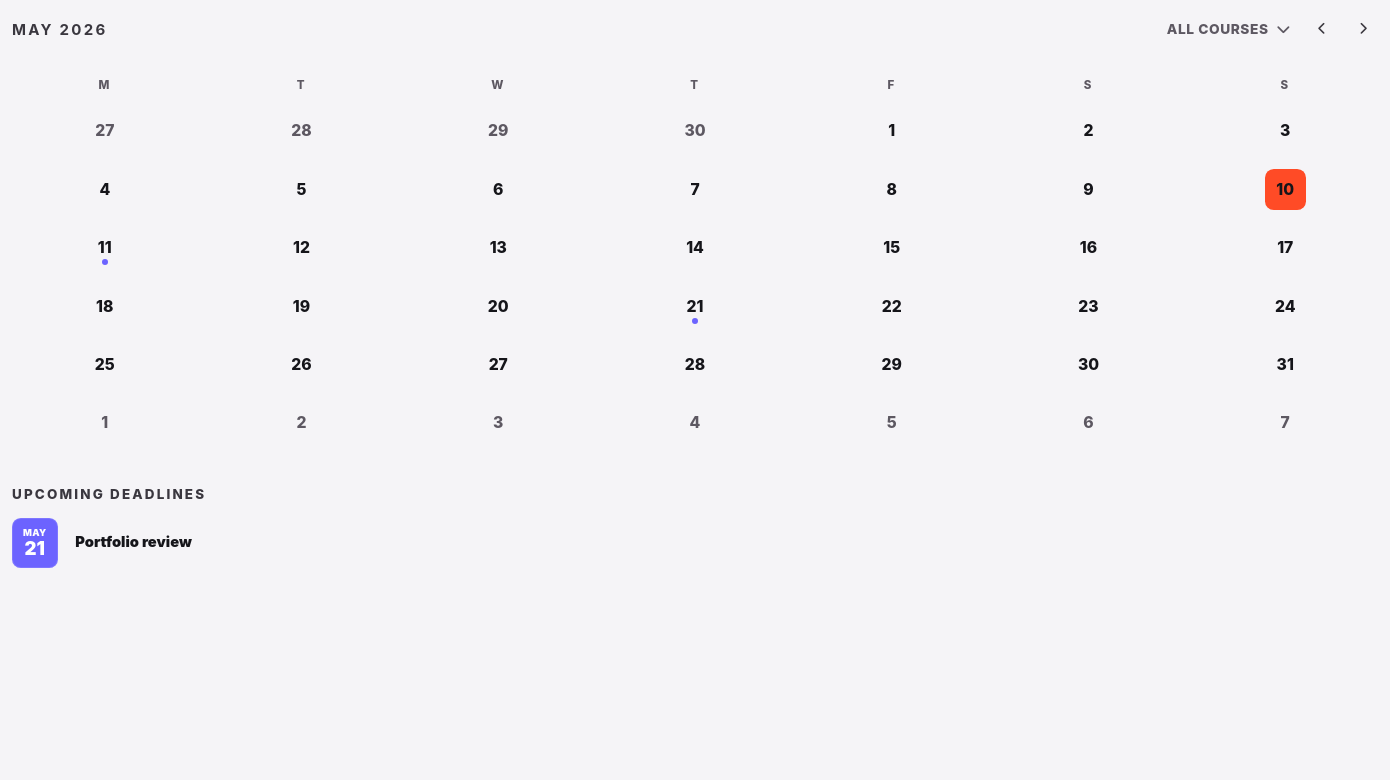
Test: DeadlineCalendar › skips tasks without due dates and keeps completed tasks out of upcoming deadlines
Check: the link "Portfolio review" is shown, box [75,533,192,551]
Check: the text "Completed project" is not shown
Click the button named "11.05.2026, 1 deadline" at [105, 248], box [84,228,125,268]
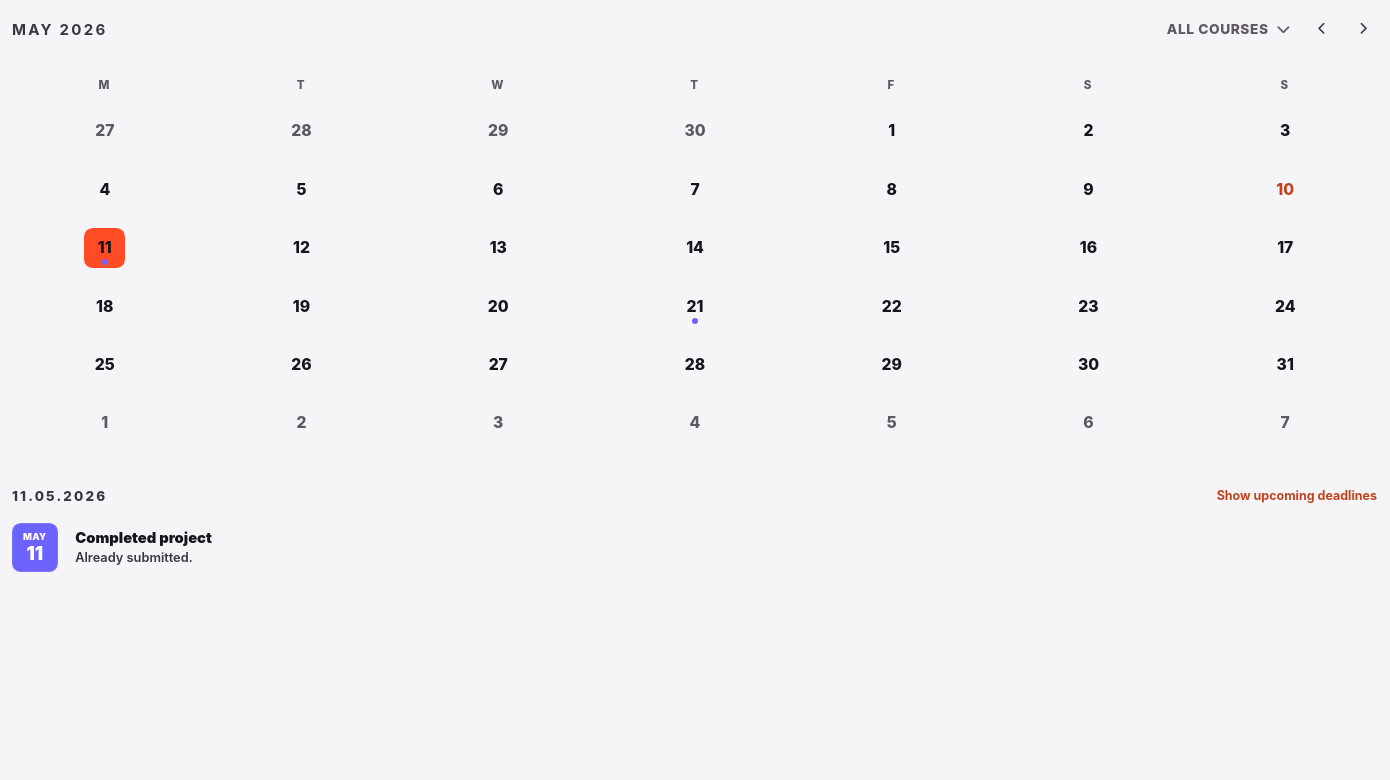
Check: the link "Completed project" is shown, box [75,529,212,547]
Check: the text "Already submitted." is shown, box [75,550,193,565]
